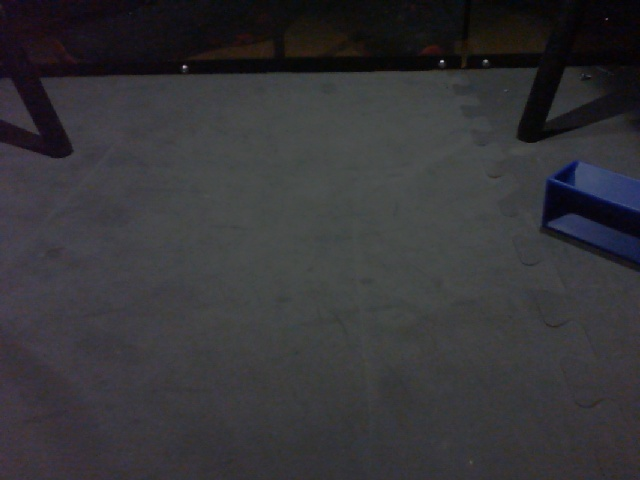BlueSample: (535, 157, 640, 265)
